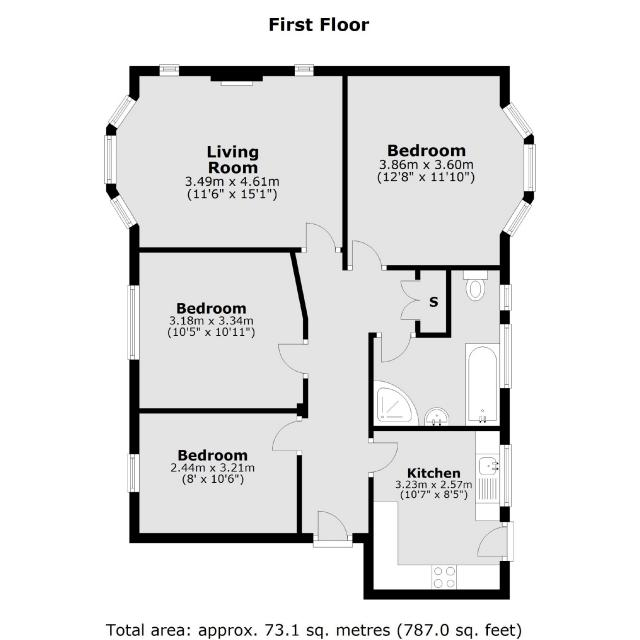DOOR: (350, 237, 385, 272), (378, 331, 414, 365), (316, 508, 350, 543), (367, 441, 401, 476), (276, 342, 310, 377), (304, 220, 339, 254), (270, 419, 304, 453), (476, 525, 509, 559)
ROOM: (103, 63, 348, 253), (342, 65, 536, 271), (126, 247, 309, 417), (363, 425, 513, 600), (126, 402, 308, 544)
WINDOW: (500, 197, 535, 239), (500, 101, 535, 141), (106, 94, 138, 130), (108, 193, 139, 230), (498, 323, 513, 390), (127, 284, 140, 361), (498, 443, 513, 508), (523, 143, 537, 193), (104, 135, 117, 185), (127, 453, 140, 493), (499, 283, 512, 312), (294, 63, 315, 77), (159, 64, 180, 77)
